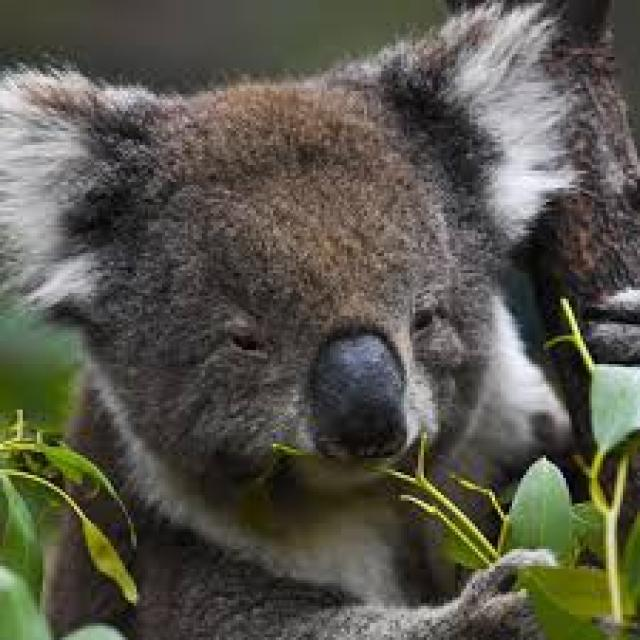Koala: (1, 0, 582, 627)
